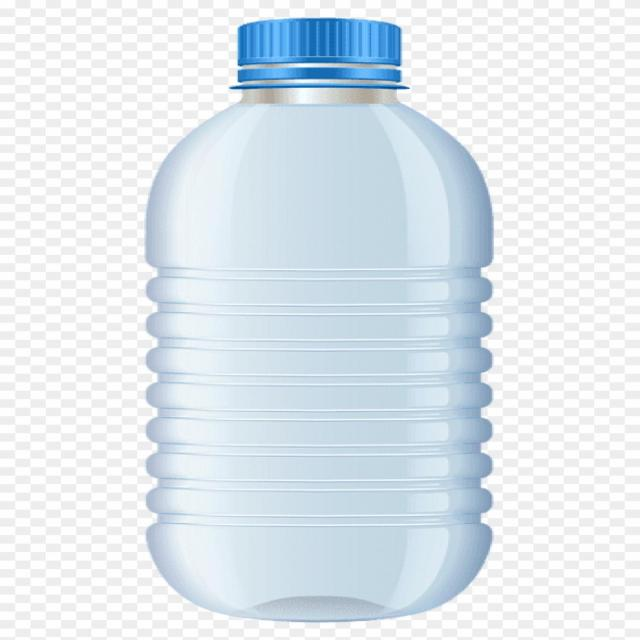plastic: (146, 18, 492, 621)
